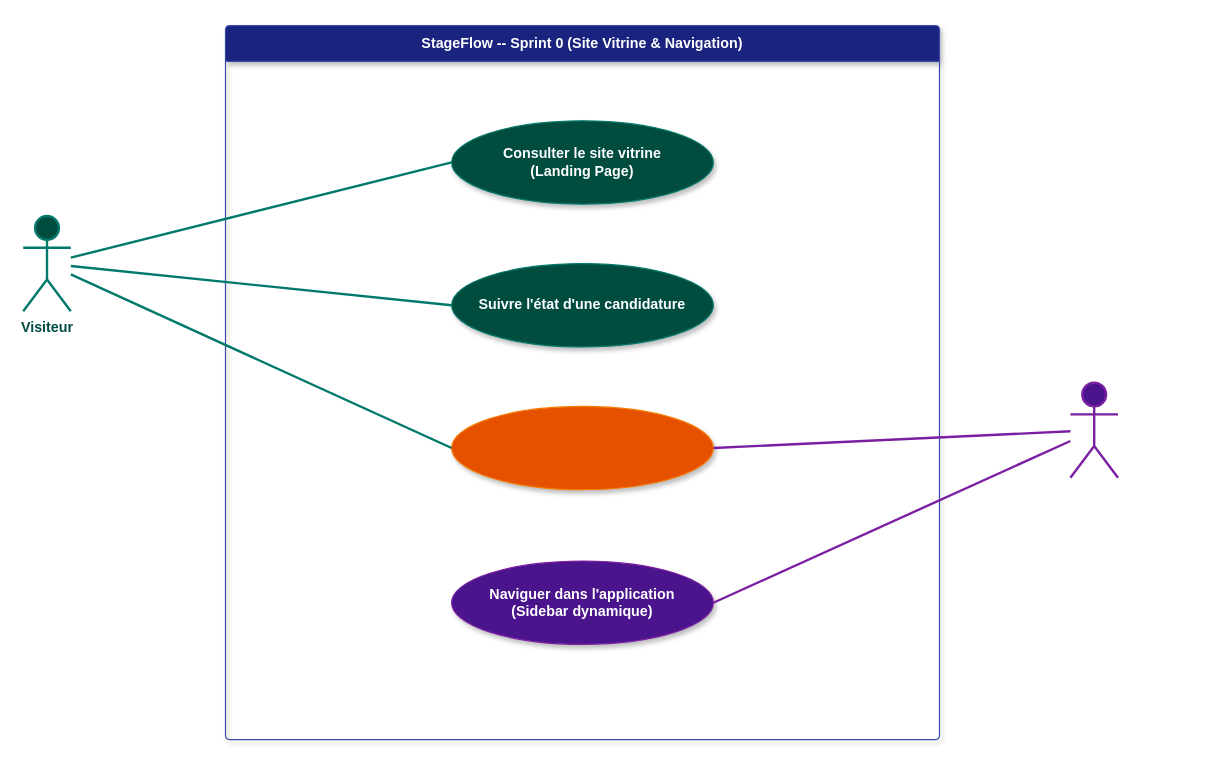
Image size: 1213x769. Some labels were removed from this diagram. The shapes that lost their labels are listed below. From the top down, each one's centre as x and y in pixels, then its label:
At [583,449]: "Accéder à l'espace de connexion".
At [1094,429]: "Utilisateur Connecté (Admin RH, Tuteur, Stagiaire)".
